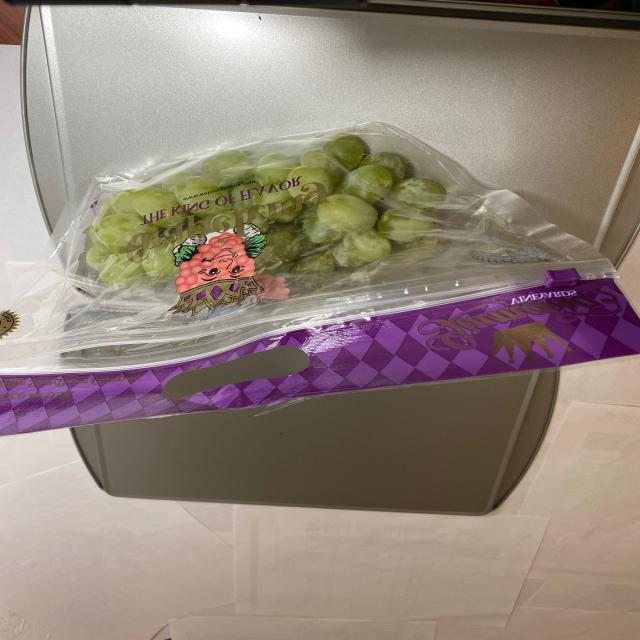grapes: (66, 146, 483, 288)
